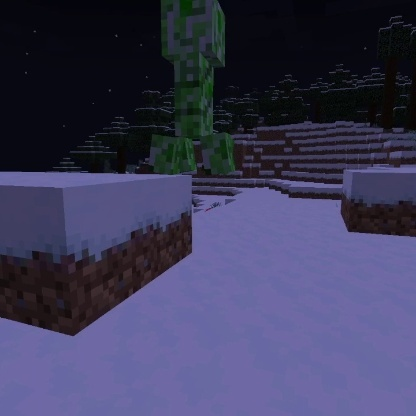creeper: (145, 1, 239, 177)
